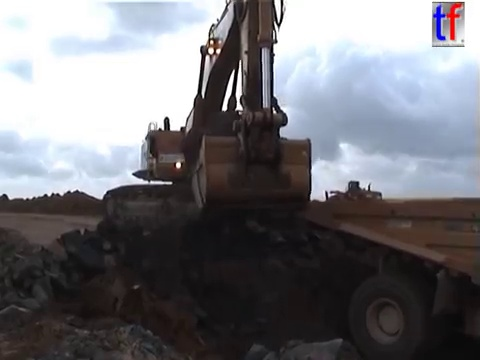excavator: (98, 1, 315, 235)
truck: (297, 195, 480, 360)
wheel loader: (312, 179, 385, 213)
